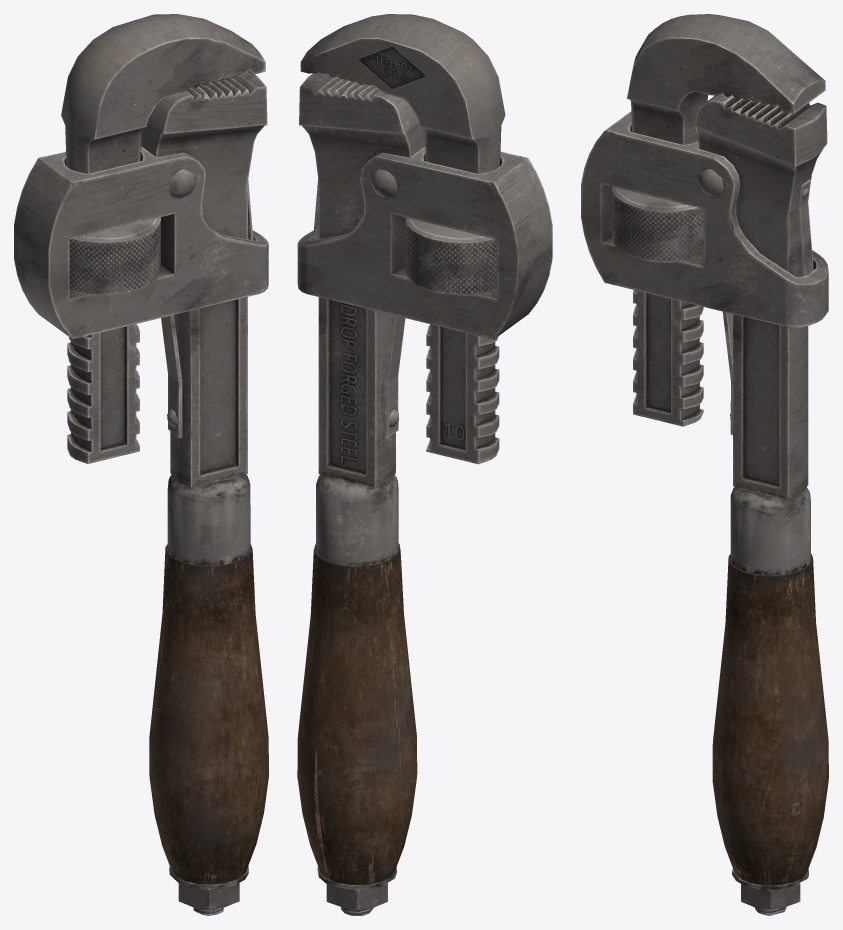
Rendered from adjustable_wrench.glb.
The picture shows the model from 3 angles, left to right: view 1: azimuth 30°, elevation 25°; view 2: azimuth 150°, elevation 25°; view 3: azimuth 330°, elevation 25°; orthographic projection. The views are drawn at different scales.
Parts seen in each view (by area): view 1: adjustable_wrench_jaw; view 2: adjustable_wrench_jaw; view 3: adjustable_wrench_jaw.
Part boxes in pixels (x1=…): adjustable_wrench_jaw: x1=14, y1=14, x2=268, y2=915; adjustable_wrench_jaw: x1=297, y1=14, x2=552, y2=915; adjustable_wrench_jaw: x1=581, y1=14, x2=828, y2=915.
Bounding box in the file's own units: 0.068 × 0.2541 × 0.0306.
Materials: 1 (1 with a texture image).
